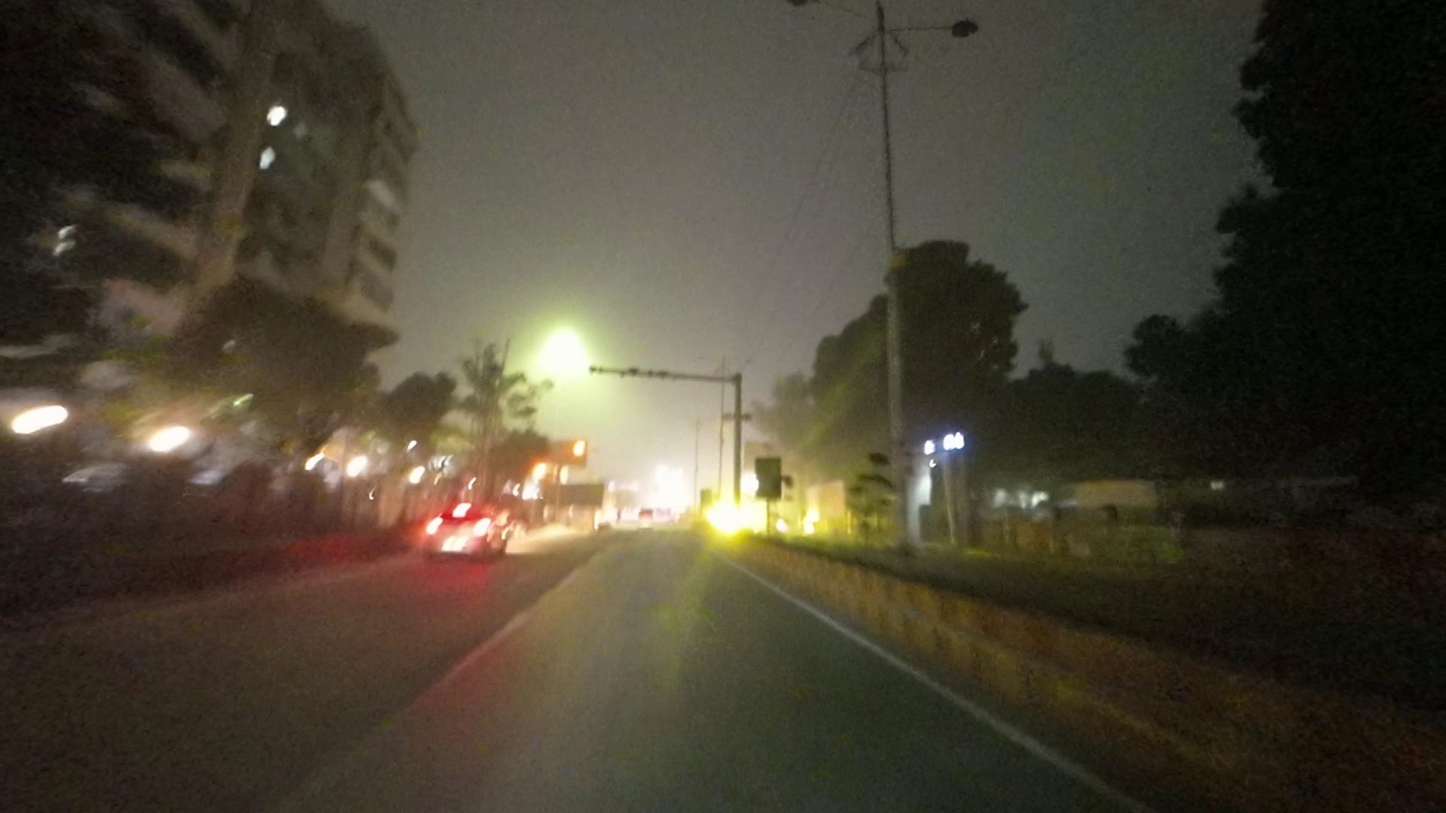streetlight: (904, 14, 980, 47)
